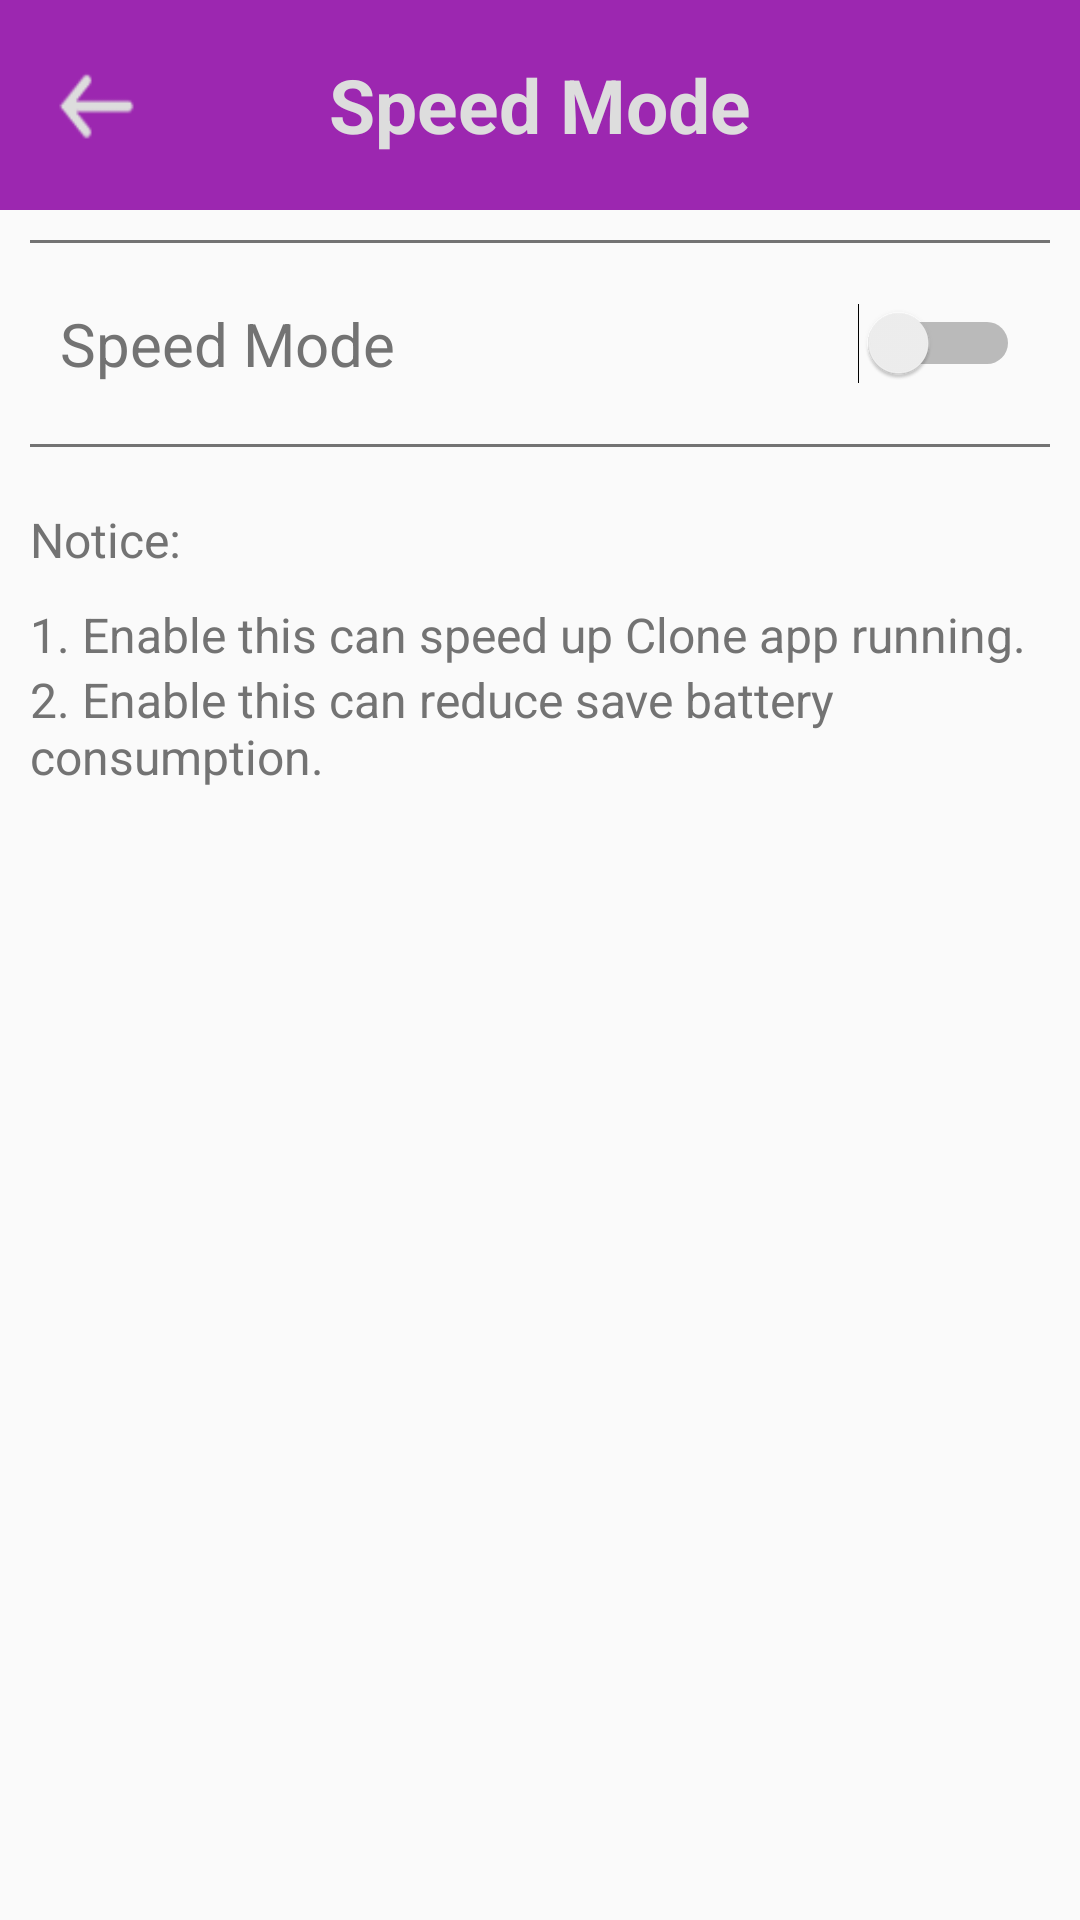

Where to tap for icons on this 1080x1920 app screen, as [x,y]:
back: [96,106]
